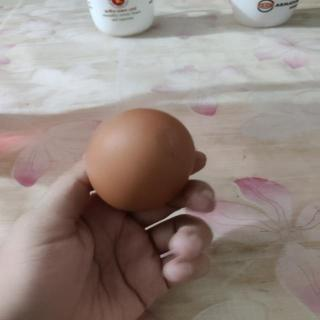Telur: (85, 108, 198, 210)
